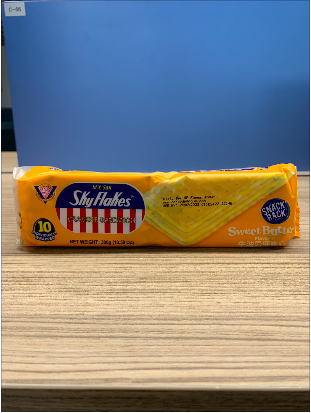Crackers_300-399g: (30, 174, 290, 248)
